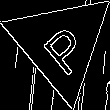P_NW: (32, 13, 91, 75)
